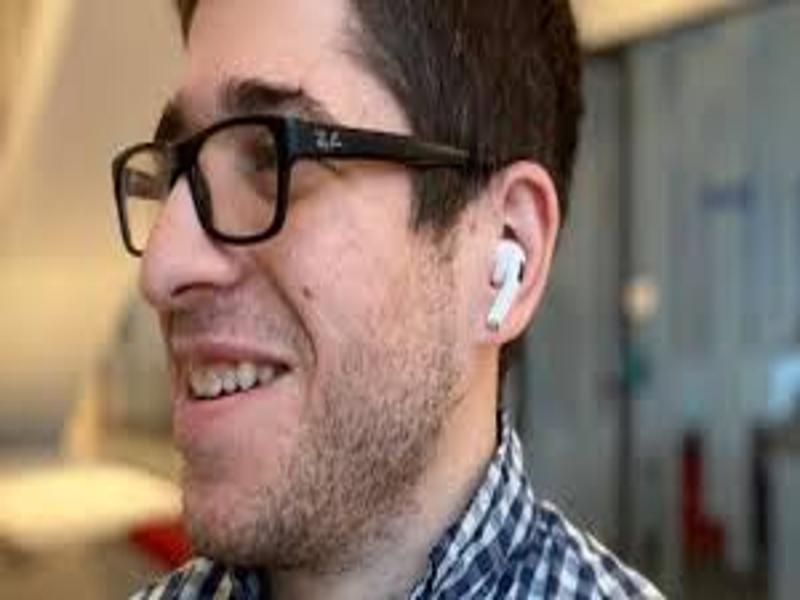headphone: (486, 239, 527, 332)
